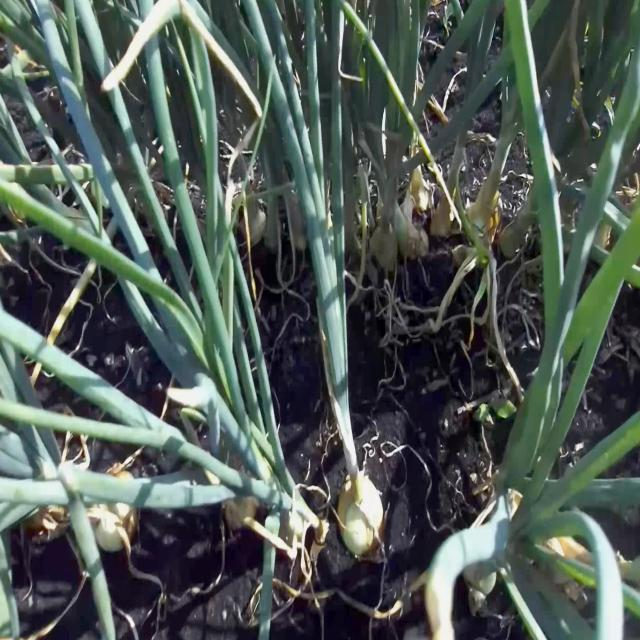onion: (90, 466, 139, 552), (340, 474, 379, 553), (221, 472, 261, 530), (237, 200, 266, 254), (371, 226, 397, 277)
